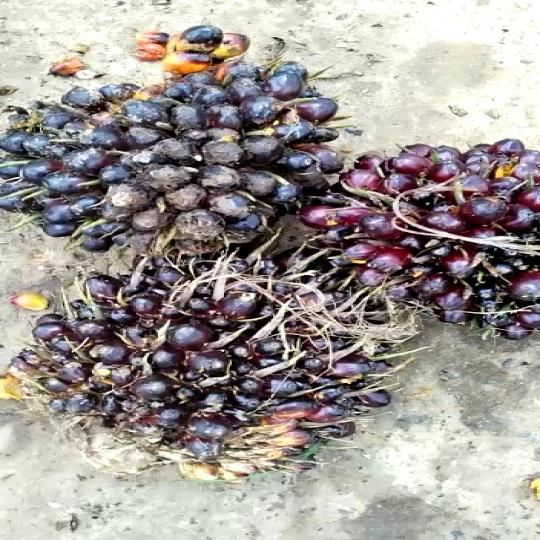kurang masak: (13, 242, 424, 505), (1, 36, 352, 264), (285, 136, 540, 335)
